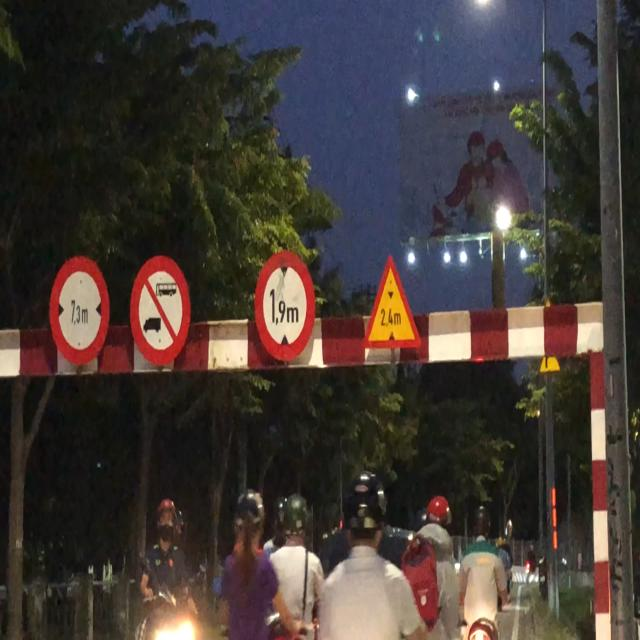Bien bao cam xe oto khach va xe oto tai: (131, 250, 193, 362)
Bien bao chieu cao tinh khong thuc te: (356, 246, 422, 358)
Bien bao han che chieu cao: (253, 247, 321, 373)
